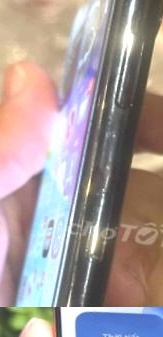scratch: (53, 179, 135, 307), (82, 100, 139, 179), (115, 0, 163, 32), (134, 36, 157, 61)
